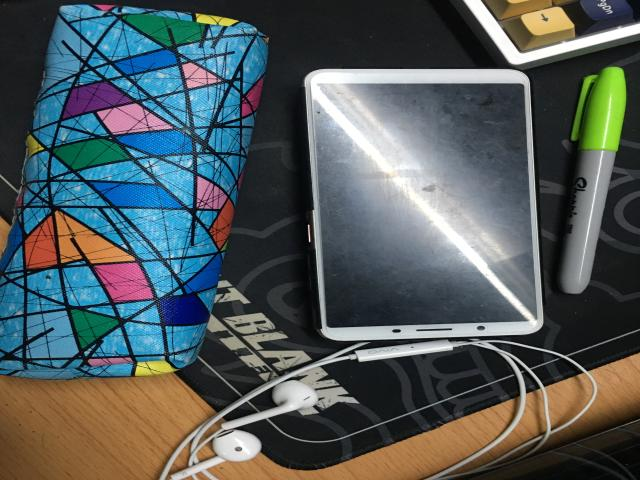Mobile phone: (305, 69, 543, 341)
Pen: (558, 67, 627, 293)
wire: (159, 339, 597, 480)
